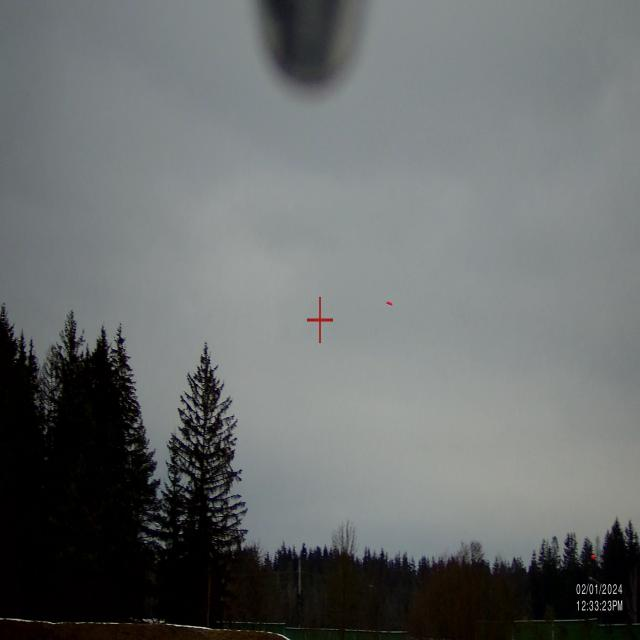entire: (380, 293, 397, 309)
